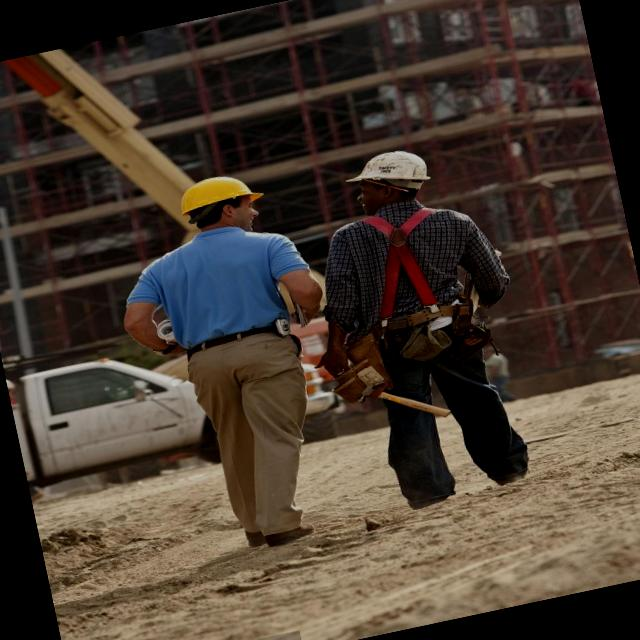helmet: (337, 138, 441, 200), (170, 162, 268, 220)
no-vest: (316, 190, 508, 360), (129, 212, 314, 366)
